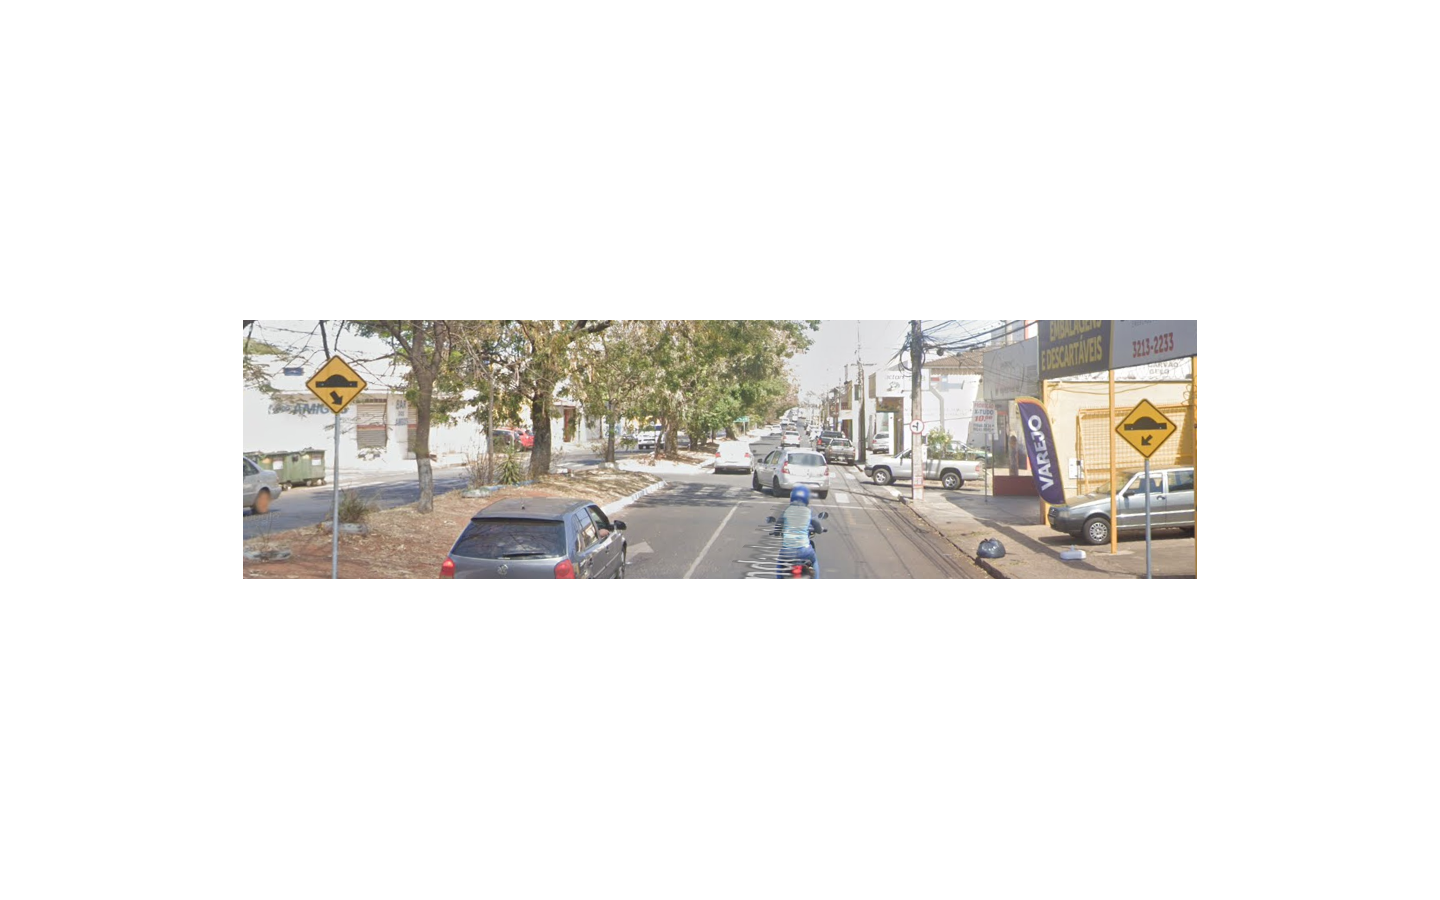lomb: (1114, 398, 1178, 458), (305, 355, 367, 414)
